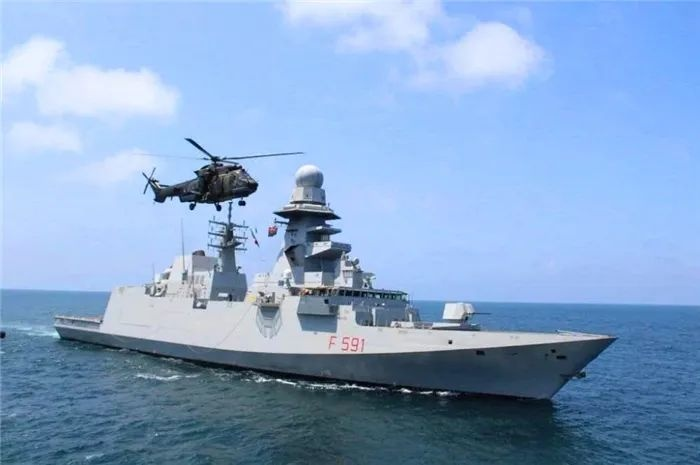warship: (24, 159, 621, 400), (134, 140, 305, 215)
